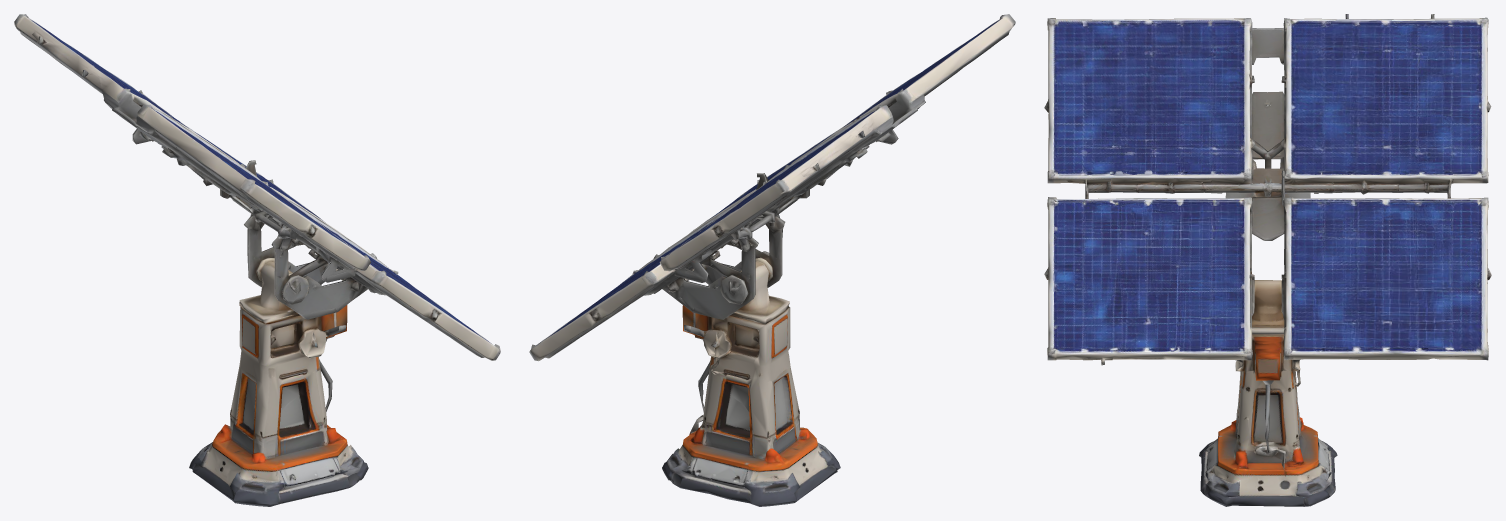
File: solaire.glb
The picture shows the model from 3 angles, left to right: view 1: azimuth 30°, elevation 25°; view 2: azimuth 150°, elevation 25°; view 3: azimuth 270°, elevation 25°; orthographic projection. The views are drawn at different scales.
Parts seen in each view (by area): view 1: tripo_node_6e24b406-bf9d-48af-9cfe-2d1bb97edaa2; view 2: tripo_node_6e24b406-bf9d-48af-9cfe-2d1bb97edaa2; view 3: tripo_node_6e24b406-bf9d-48af-9cfe-2d1bb97edaa2.
Part boxes in pixels (x1,y1,x2,y2): tripo_node_6e24b406-bf9d-48af-9cfe-2d1bb97edaa2: (14, 14, 500, 506); tripo_node_6e24b406-bf9d-48af-9cfe-2d1bb97edaa2: (529, 14, 1015, 506); tripo_node_6e24b406-bf9d-48af-9cfe-2d1bb97edaa2: (1044, 14, 1491, 506).
Bounding box in the file's own units: 0.6582 × 0.982 × 1.
Materials: 1 (1 with a texture image).
